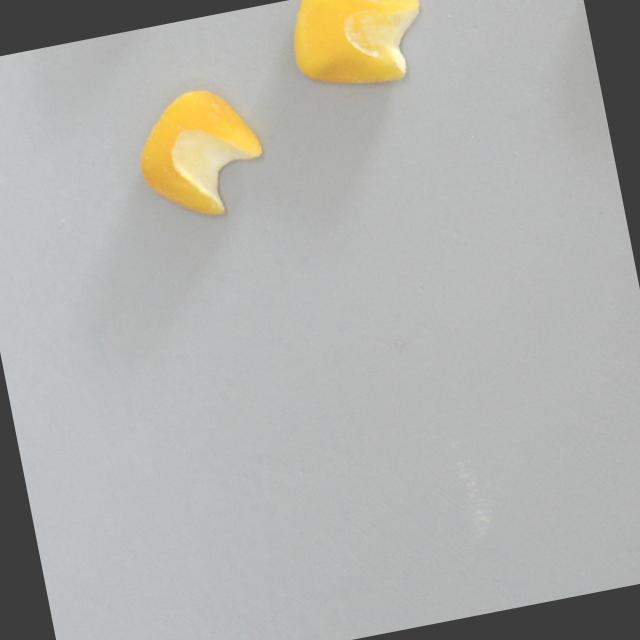no_canjicado: (127, 80, 273, 228), (283, 0, 432, 100)
